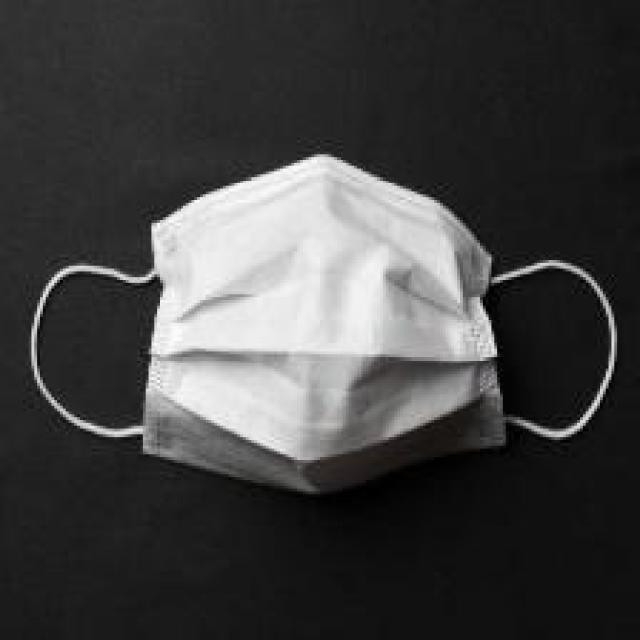Mask: (20, 172, 622, 500)
